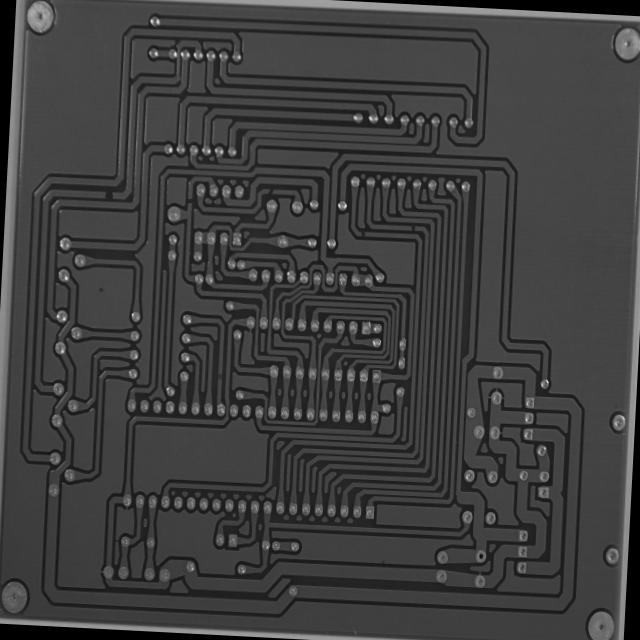open_circuit: (102, 188, 116, 202), (266, 185, 276, 198), (358, 228, 367, 238), (408, 222, 416, 232), (186, 196, 194, 206)
